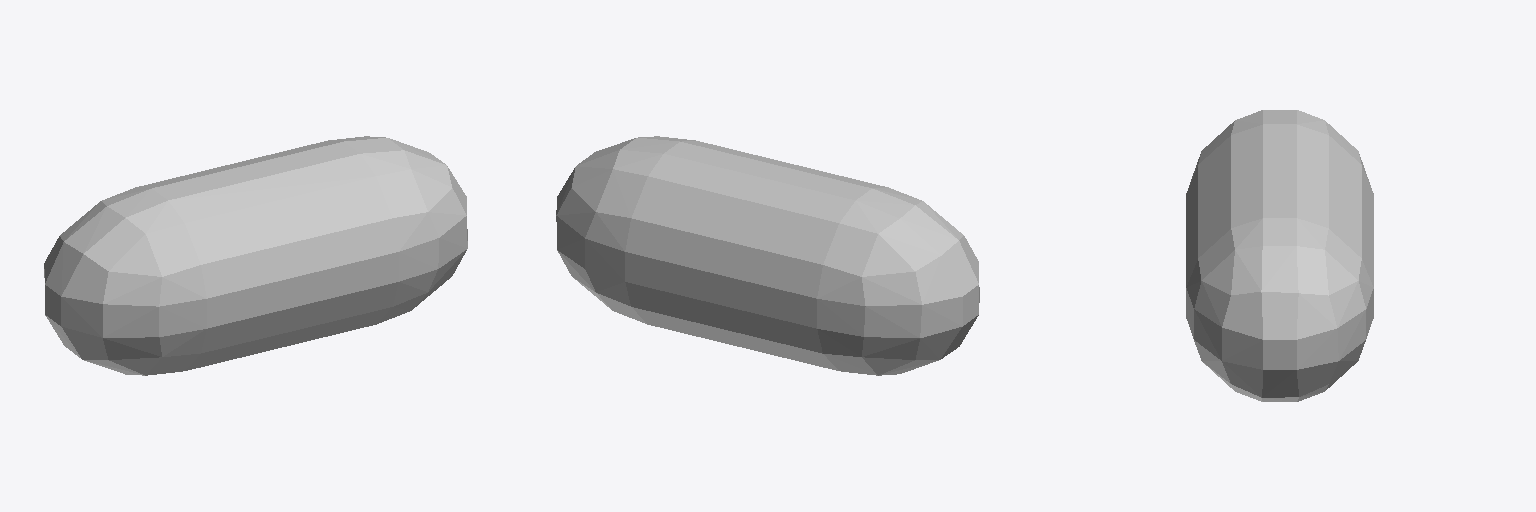
The picture shows the model from 3 angles: view 1: azimuth 30°, elevation 25°; view 2: azimuth 150°, elevation 25°; view 3: azimuth 270°, elevation 25°; orthographic projection.
Visible parts, largest first — view 1: Mball.001_Mesh; view 2: Mball.001_Mesh; view 3: Mball.001_Mesh.
Boxes of the visible parts, box(x1,y1,x2,y2) form: Mball.001_Mesh: box(44, 136, 467, 375); Mball.001_Mesh: box(556, 136, 979, 375); Mball.001_Mesh: box(1186, 110, 1373, 401).
Size of the model in its own units: 0.05 by 0.02 by 0.02.